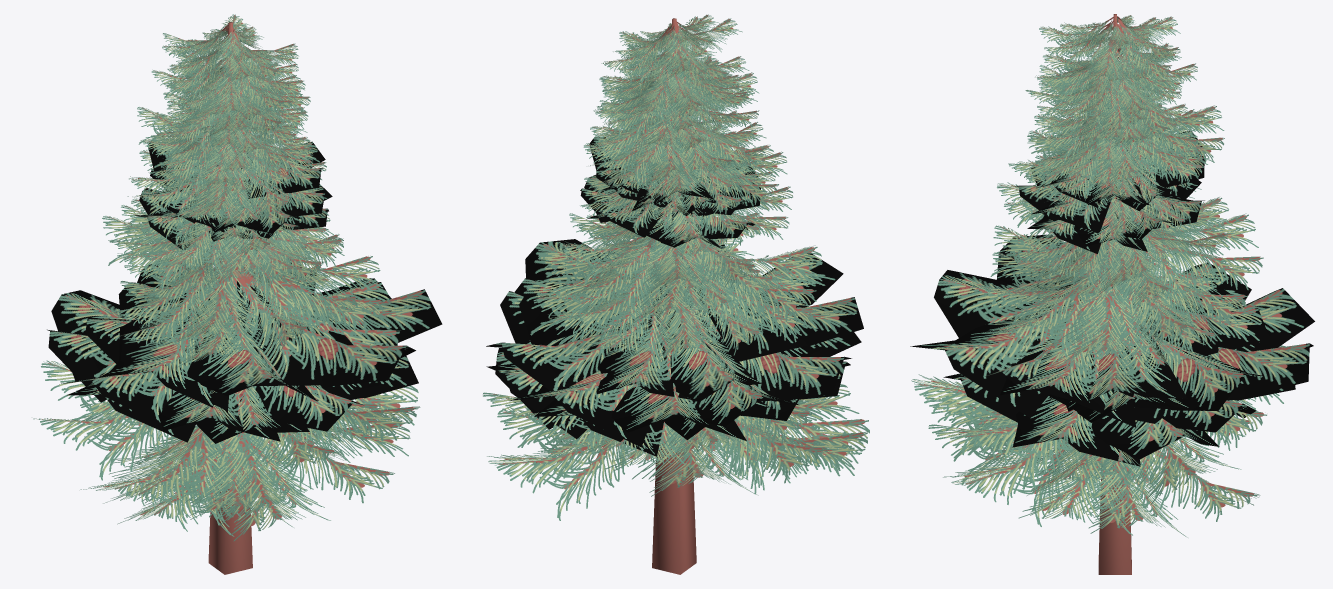
File: pine_tree.obj
3 views of the same model, side by side, from view 1: azimuth 30°, elevation 25°; view 2: azimuth 150°, elevation 25°; view 3: azimuth 270°, elevation 25° (orthographic).
Visible parts, largest first — view 1: pine_tree_branch_w_cones.030, pine_tree_branch_w_cones.033, pine_tree_branch.009, pine_tree_branch.129, pine_tree_branch_w_cones.009, pine_tree_branch_w_cones.006, pine_tree_branch_w_cones.002, pine_tree_branch.143, pine_tree_branch.008, pine_tree_branch.021, pine_tree_branch.123, Cube (+77 smaller); view 2: pine_tree_branch_w_cones.033, Cube, pine_tree_branch.001, pine_tree_branch_w_cones.008, pine_tree_branch_w_cones.001, pine_tree_branch_w_cones.007, pine_tree_branch_w_cones.032, pine_tree_branch_w_cones.034, pine_tree_branch_w_cones.010, pine_tree_branch.008, pine_tree_branch.128, pine_tree_branch_w_cones.005 (+80 smaller); view 3: pine_tree_branch_w_cones.030, pine_tree_branch_w_cones.009, pine_tree_branch_w_cones.006, pine_tree_branch_w_cones.001, pine_tree_branch_w_cones.005, pine_tree_branch.023, pine_tree_branch_w_cones.034, pine_tree_branch_w_cones.035, pine_tree_branch.143, pine_tree_branch.011, pine_tree_branch.121, pine_tree_branch.131 (+86 smaller).
Boxes of the visible parts, bbox=[...] form: pine_tree_branch_w_cones.030: bbox=[237, 281, 415, 386]; pine_tree_branch_w_cones.033: bbox=[105, 281, 228, 411]; pine_tree_branch.009: bbox=[172, 432, 324, 525]; pine_tree_branch.129: bbox=[103, 424, 235, 520]; pine_tree_branch_w_cones.009: bbox=[171, 275, 317, 401]; pine_tree_branch_w_cones.006: bbox=[250, 285, 442, 345]; pine_tree_branch_w_cones.002: bbox=[255, 385, 362, 431]; pine_tree_branch.143: bbox=[253, 256, 384, 335]; pine_tree_branch.008: bbox=[33, 411, 173, 480]; pine_tree_branch.021: bbox=[170, 250, 261, 346]; pine_tree_branch.123: bbox=[80, 426, 209, 531]; Cube: bbox=[208, 22, 252, 574]; pine_tree_branch_w_cones.033: bbox=[694, 285, 863, 362]; Cube: bbox=[652, 18, 696, 574]; pine_tree_branch.001: bbox=[487, 430, 631, 520]; pine_tree_branch_w_cones.008: bbox=[633, 289, 762, 402]; pine_tree_branch_w_cones.001: bbox=[486, 331, 619, 391]; pine_tree_branch_w_cones.007: bbox=[699, 311, 851, 401]; pine_tree_branch_w_cones.032: bbox=[596, 284, 692, 399]; pine_tree_branch_w_cones.034: bbox=[510, 370, 649, 447]; pine_tree_branch_w_cones.010: bbox=[611, 383, 746, 440]; pine_tree_branch.008: bbox=[683, 419, 832, 483]; pine_tree_branch.128: bbox=[605, 427, 758, 496]; pine_tree_branch_w_cones.005: bbox=[515, 278, 660, 344]; pine_tree_branch_w_cones.030: bbox=[910, 280, 1087, 417]; pine_tree_branch_w_cones.009: bbox=[934, 270, 1062, 337]; pine_tree_branch_w_cones.006: bbox=[1000, 283, 1135, 427]; pine_tree_branch_w_cones.001: bbox=[1133, 321, 1261, 410]; pine_tree_branch_w_cones.005: bbox=[1063, 293, 1187, 411]; pine_tree_branch.023: bbox=[1055, 255, 1156, 361]; pine_tree_branch_w_cones.034: bbox=[1208, 343, 1313, 399]; pine_tree_branch_w_cones.035: bbox=[1012, 396, 1140, 466]; pine_tree_branch.143: bbox=[981, 262, 1101, 363]; pine_tree_branch.011: bbox=[1013, 441, 1132, 535]; pine_tree_branch.121: bbox=[1042, 459, 1187, 537]; pine_tree_branch.131: bbox=[943, 433, 1082, 526].
Size of the model in its own units: 13.69 by 20.17 by 13.73.
Materials: 3 (3 with a texture image).
